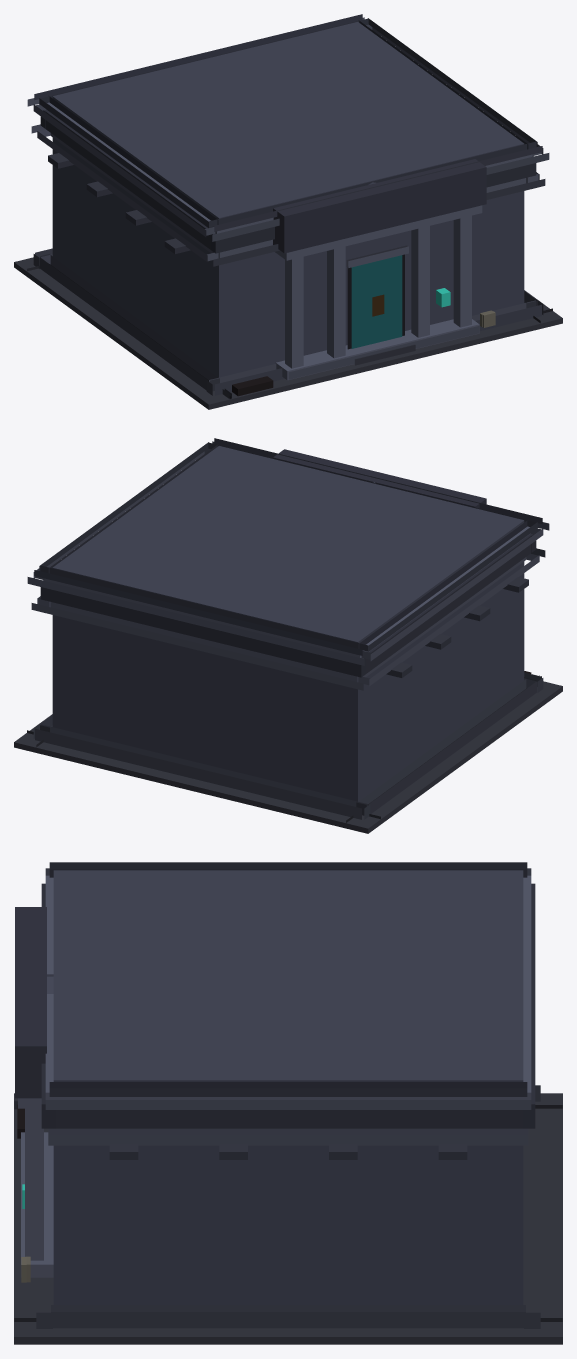
File: ThreeHeadedRatSil.fbx
The picture shows the model from 3 angles, top to bottom: view 1: azimuth 30°, elevation 25°; view 2: azimuth 150°, elevation 25°; view 3: azimuth 270°, elevation 25°; orthographic projection. The views are drawn at different scales.
Visible parts, largest first — view 1: UW_S_All; view 2: UW_S_All; view 3: UW_S_All.
Boxes of the visible parts, x1,y1,x2,y2 form: UW_S_All: (14, 14, 562, 409); UW_S_All: (14, 438, 562, 833); UW_S_All: (14, 862, 562, 1344).
Size of the model in its own units: 42.04 by 19.9 by 40.04.
